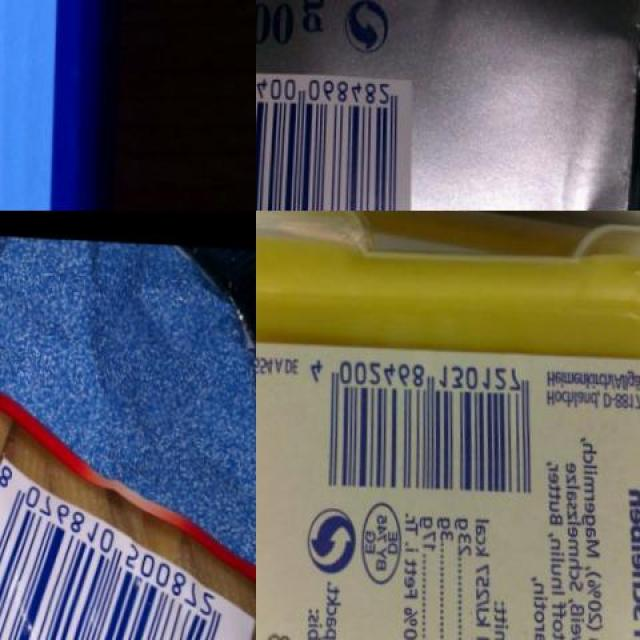Barcode: (0, 438, 253, 640), (303, 343, 541, 501), (256, 65, 415, 211)
